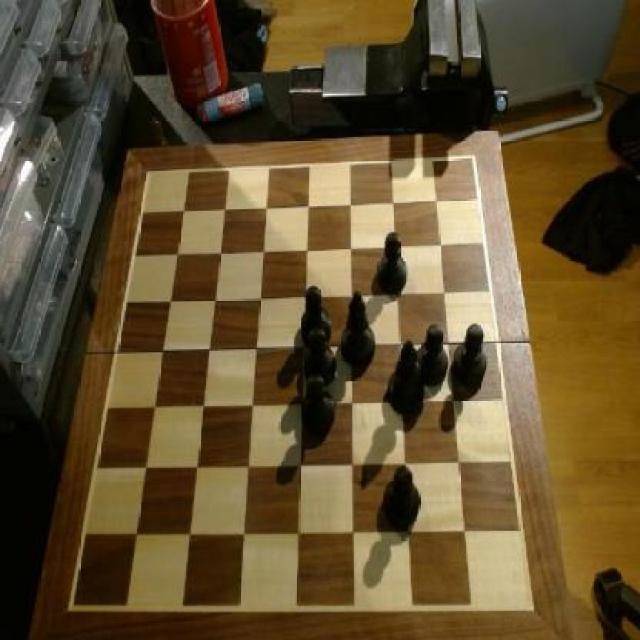bishop: (340, 289, 377, 368), (388, 338, 424, 418)
black-knight: (383, 464, 423, 534), (297, 372, 339, 434), (300, 324, 340, 388), (454, 322, 489, 391), (375, 229, 411, 296), (418, 323, 448, 387), (301, 288, 334, 346)
